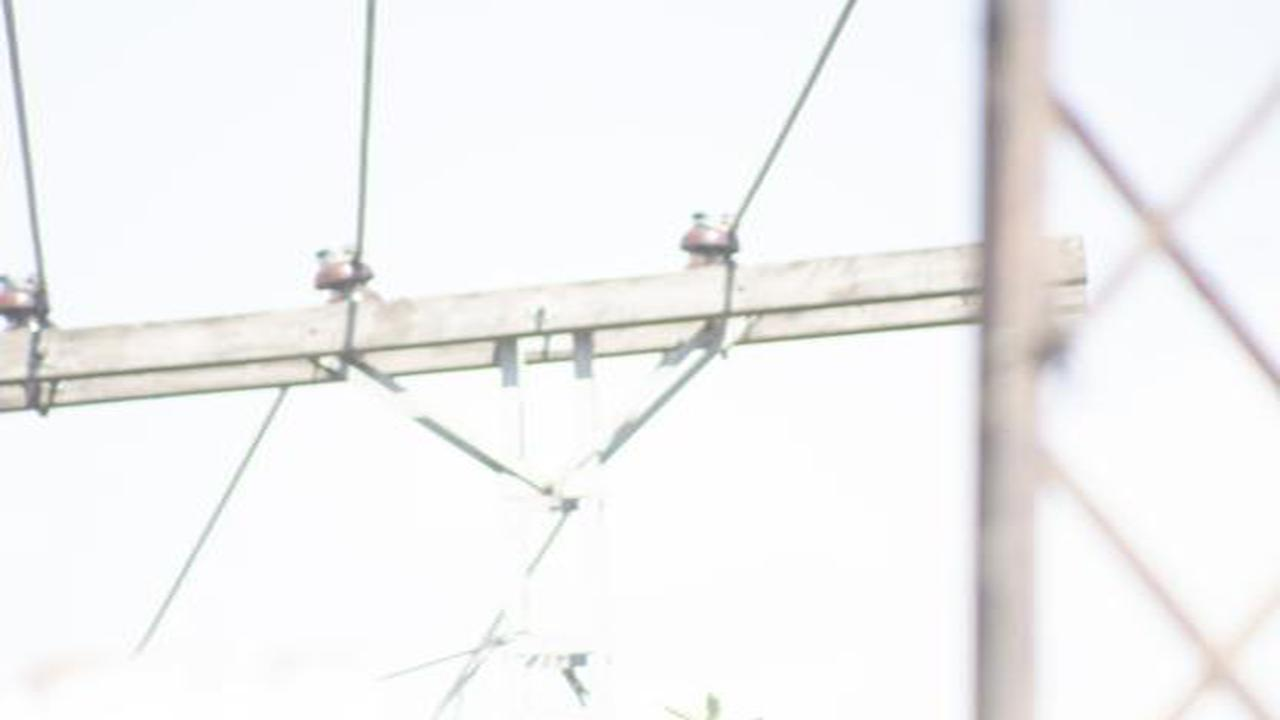insulator_pin: (308, 240, 378, 298), (674, 204, 745, 260)
